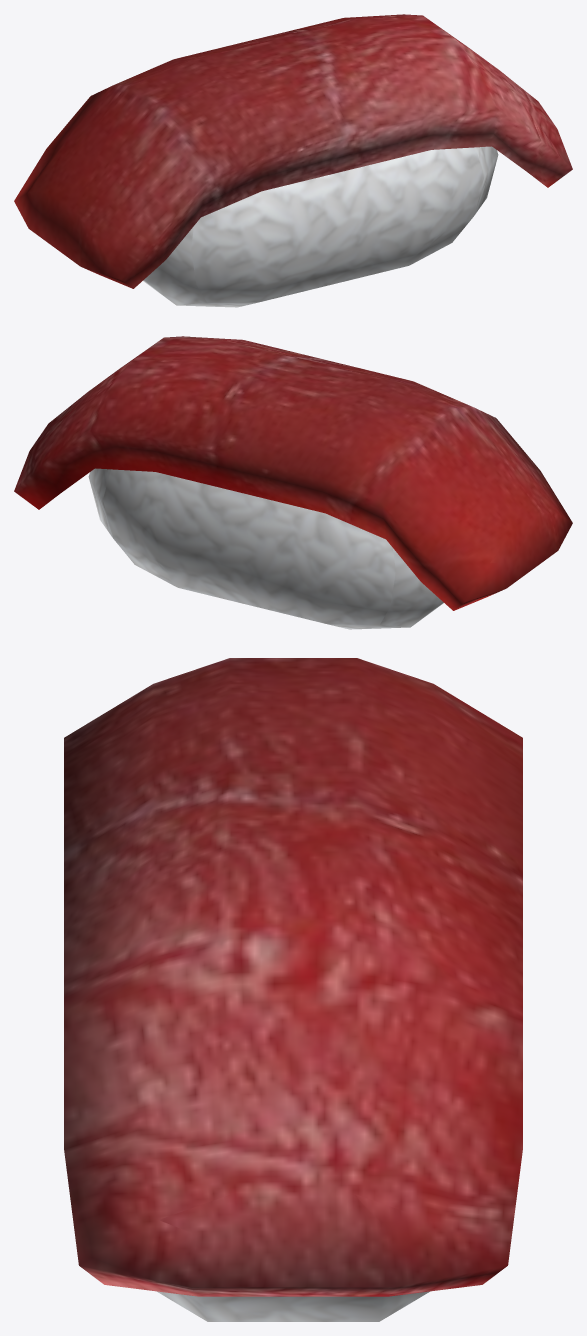
File: tuna.fbx
3 views of the same model, one above another, from view 1: azimuth 30°, elevation 25°; view 2: azimuth 150°, elevation 25°; view 3: azimuth 270°, elevation 25° (orthographic). The views are drawn at different scales.
Visible parts, largest first — view 1: tuna; view 2: tuna; view 3: tuna.
Boxes of the visible parts, x1,y1,x2,y2 form: tuna: (14,14,572,307); tuna: (14,336,572,629); tuna: (64,658,522,1321).
Size of the model in its own units: 7.62 by 3.36 by 3.17.
